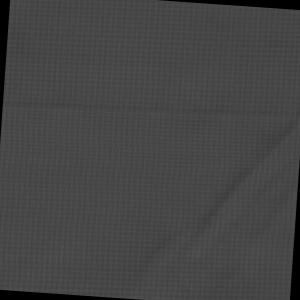Wrinkle: (173, 81, 300, 275)
